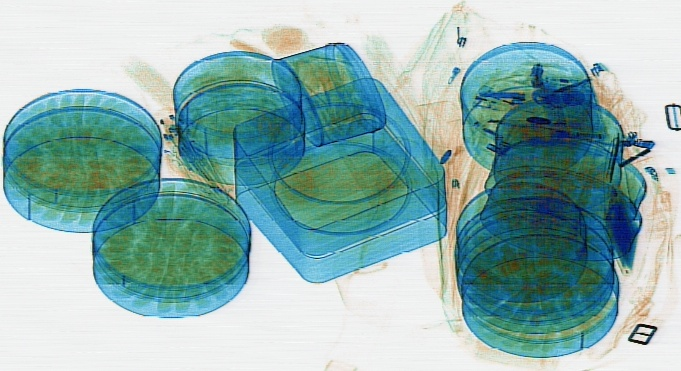lighter: (473, 82, 541, 120)
